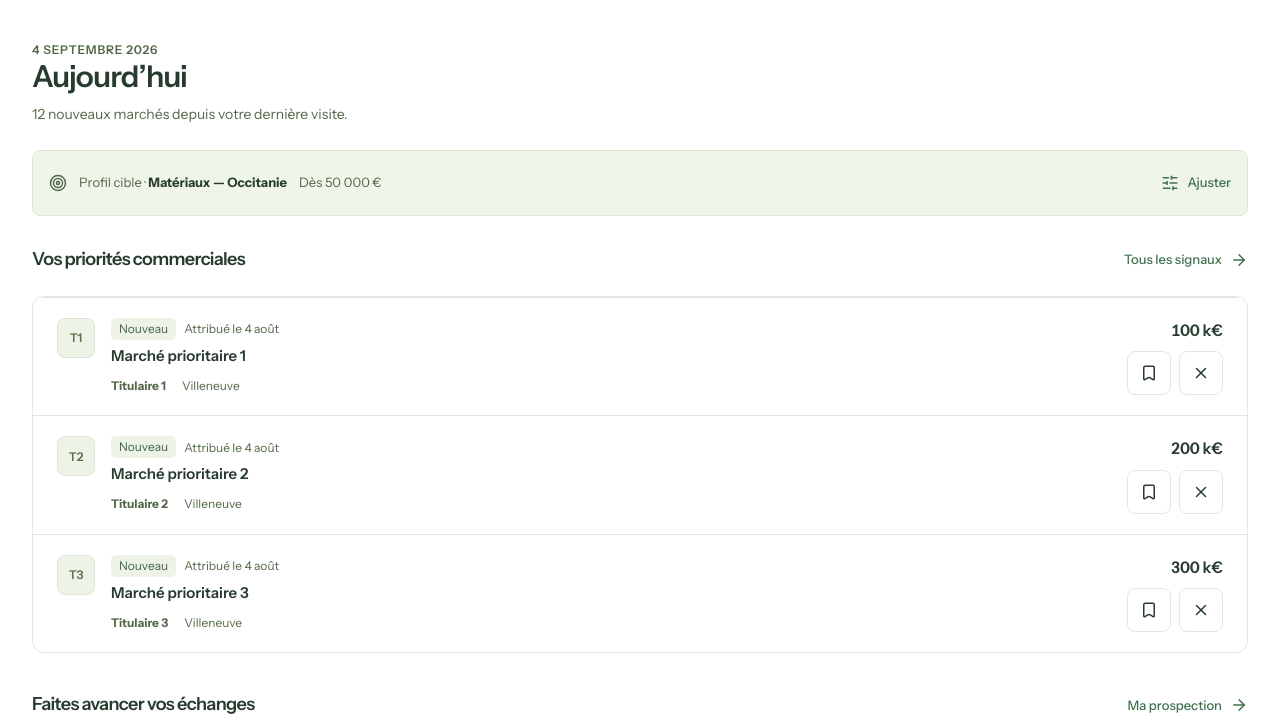
Test case: Aujourd’hui › ignore une priorité et charge la suivante
The width and height of the screenshot is (1280, 720).
Click the button named "Ignorer le signal" below "100 k€".
click(1201, 373)  # box [1179,351,1223,395]
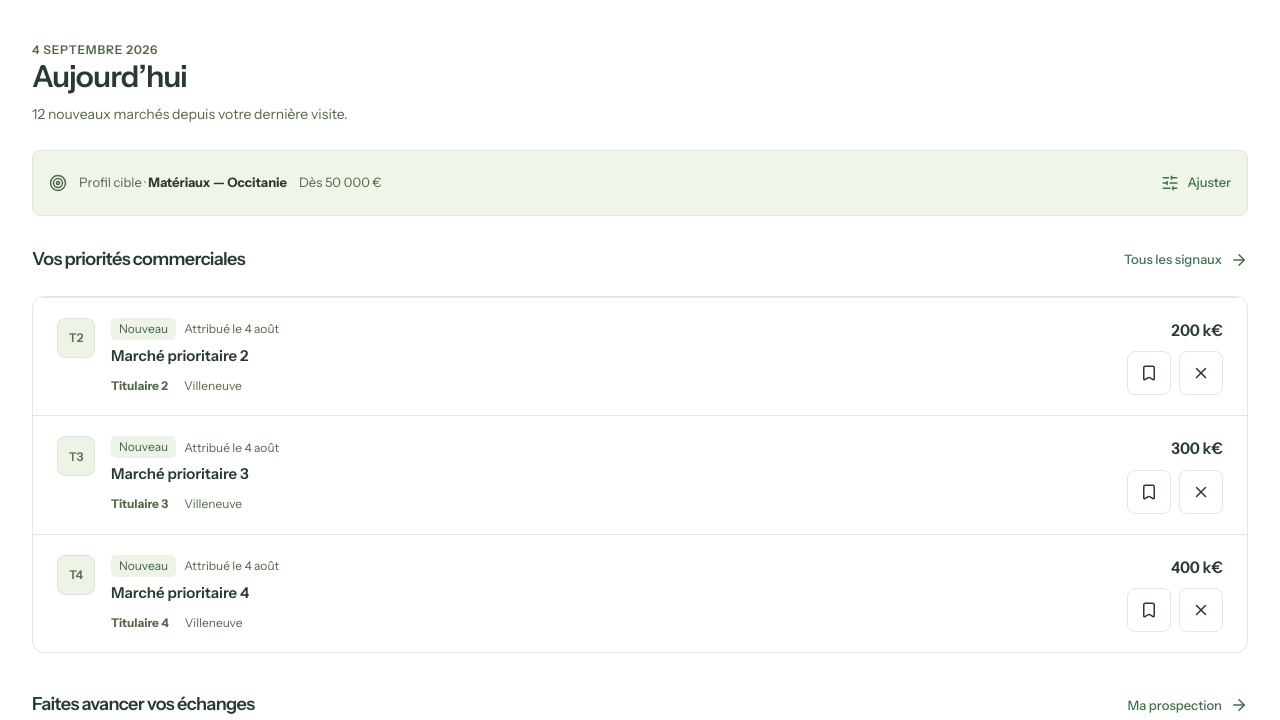
Expected: the text "Titulaire 4" is shown, [111,613,169,632]
Expected: the text "Titulaire 1" is gone
